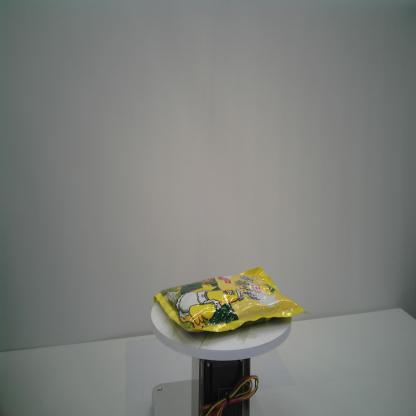Seasoner: (152, 265, 311, 335)
